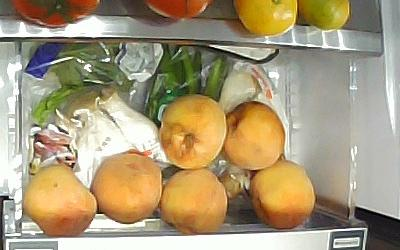peach: (22, 163, 98, 238), (91, 151, 163, 225), (159, 94, 227, 171), (249, 160, 316, 231), (160, 166, 227, 235), (224, 99, 287, 171)
